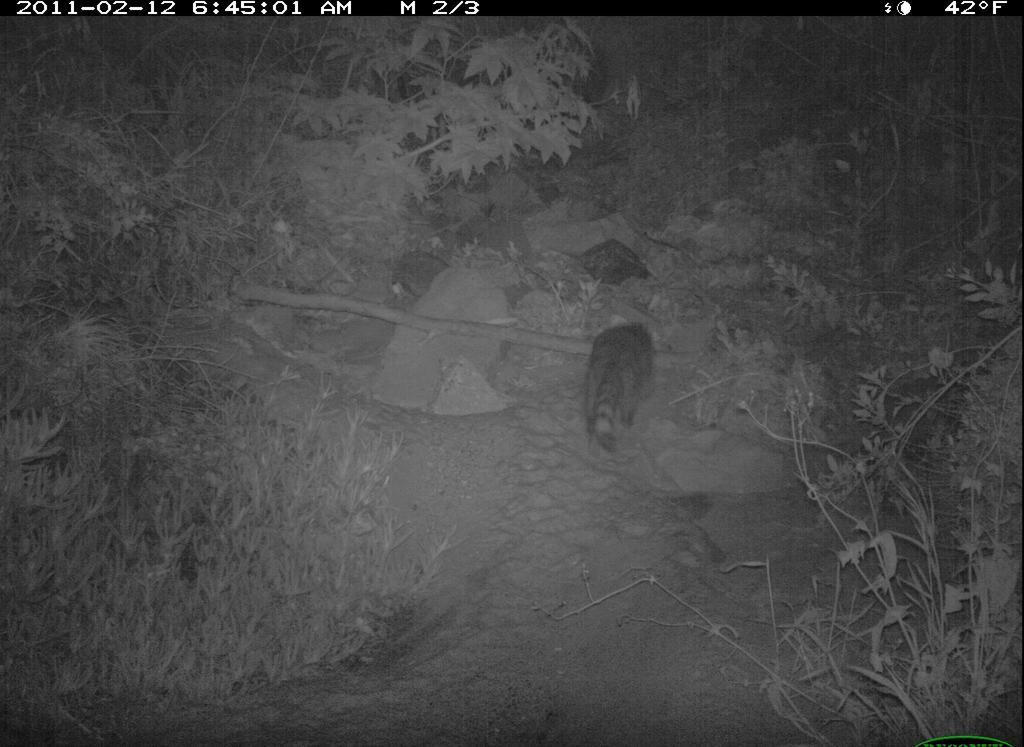raccoon: (574, 313, 666, 472)
